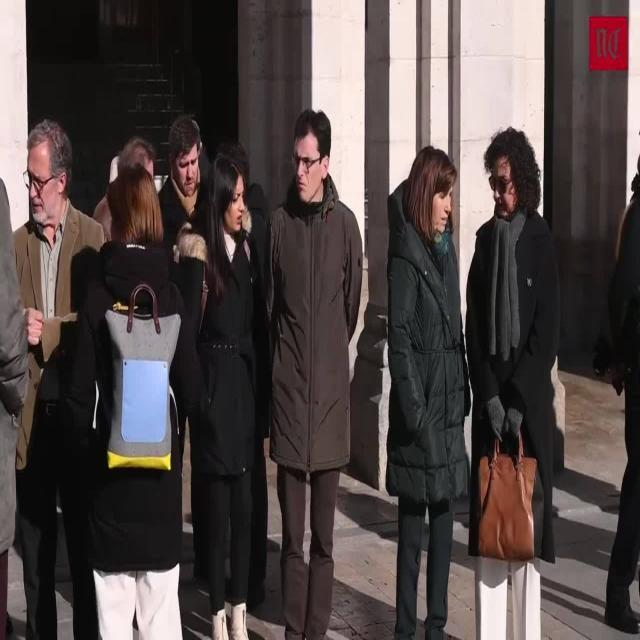person: (264, 89, 378, 640), (453, 118, 569, 640), (74, 162, 200, 624), (369, 124, 477, 640), (10, 96, 103, 640), (197, 132, 273, 640)
